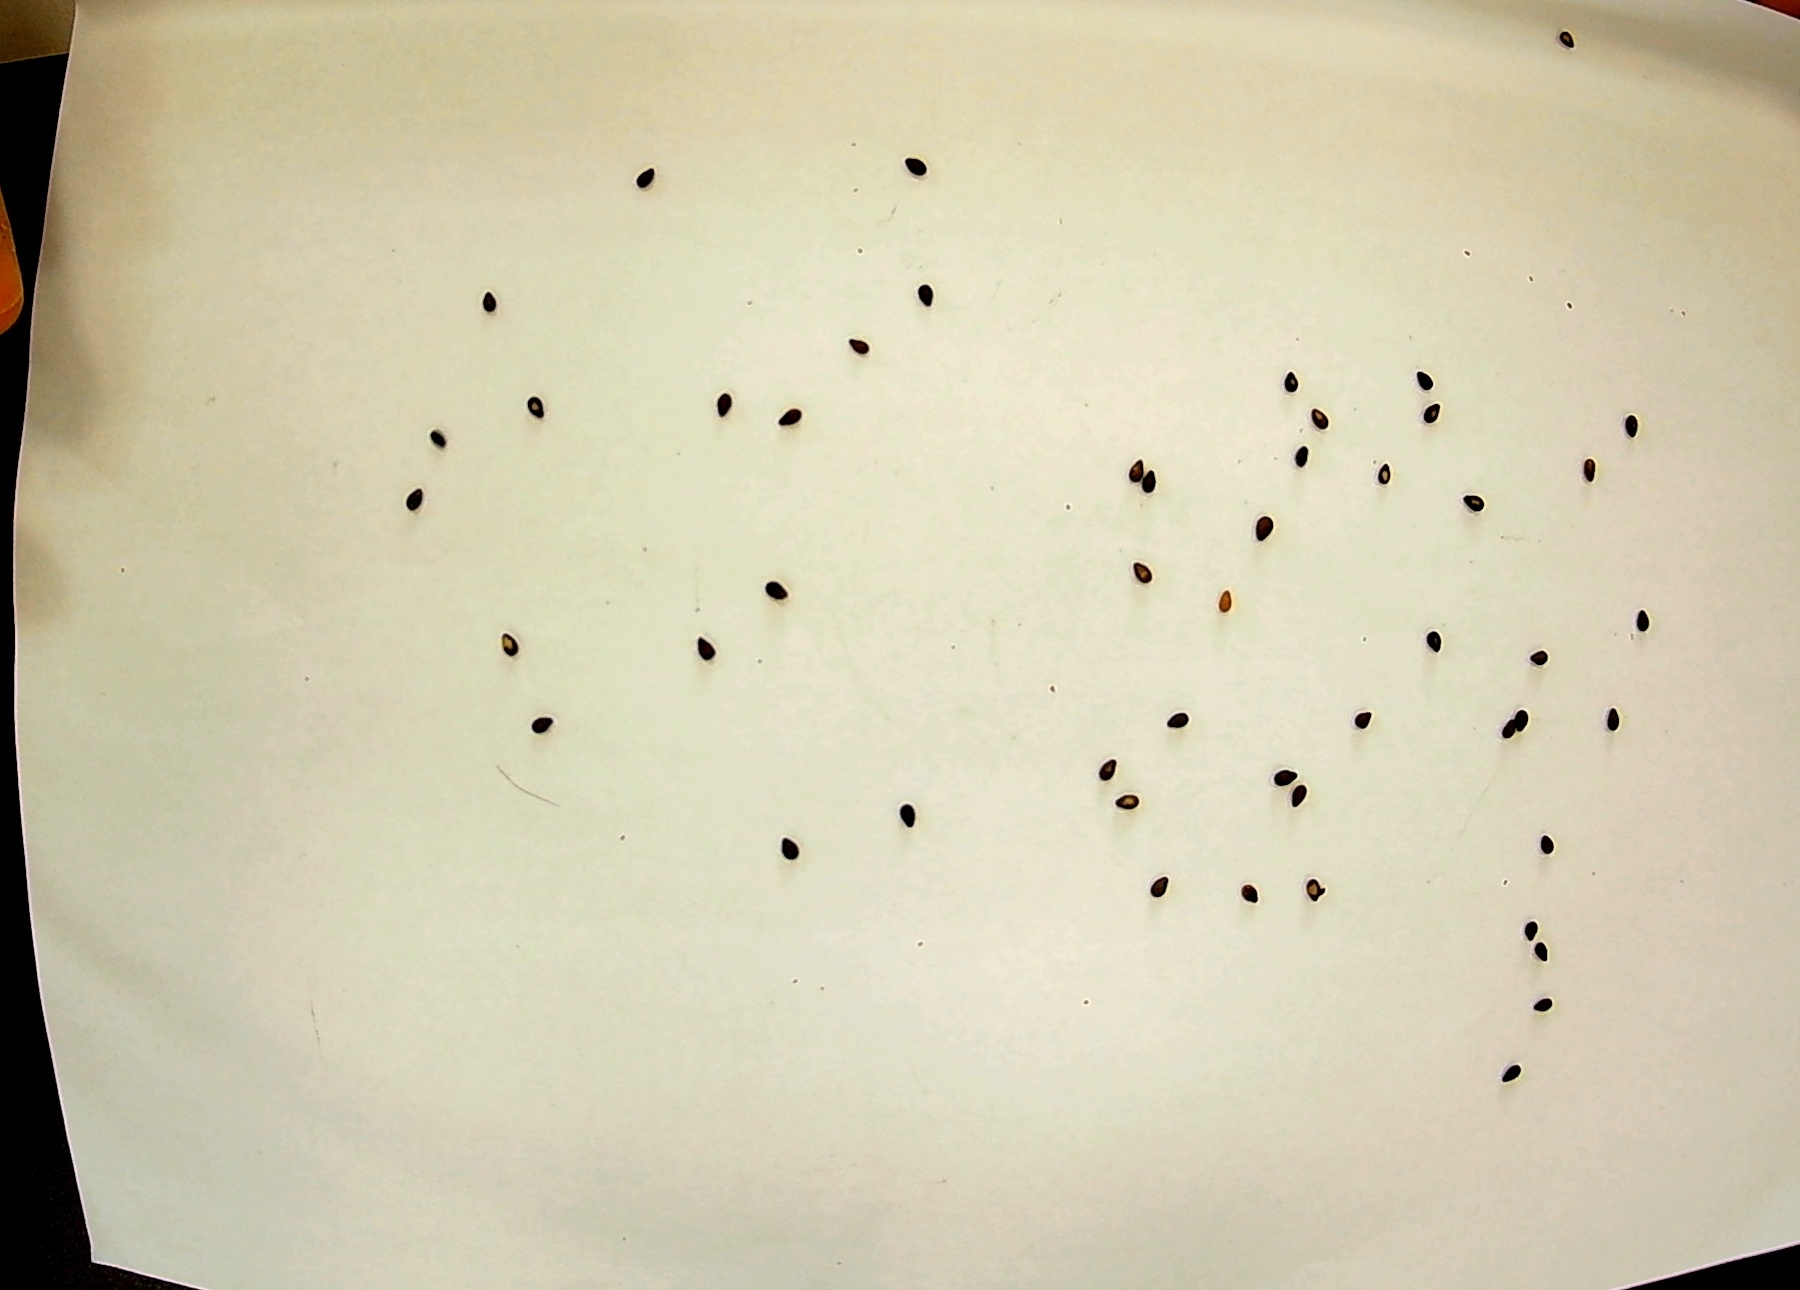sesami: (1494, 697, 1531, 752), (1259, 757, 1312, 793), (1100, 793, 1153, 826), (1453, 477, 1487, 528), (887, 800, 932, 839), (896, 145, 929, 195), (1522, 632, 1554, 681), (753, 572, 797, 607), (1566, 441, 1600, 484), (1243, 505, 1277, 550), (627, 162, 666, 200), (1418, 396, 1454, 436), (1633, 595, 1660, 645), (1285, 438, 1321, 476), (1524, 991, 1566, 1022), (1591, 699, 1630, 732), (707, 387, 738, 427), (399, 484, 435, 518), (766, 403, 804, 436), (1540, 27, 1578, 59), (904, 281, 947, 309), (1143, 873, 1182, 903), (1277, 360, 1307, 399), (1296, 403, 1338, 431), (487, 634, 534, 658), (426, 427, 462, 458), (516, 388, 546, 424), (1215, 584, 1247, 616), (1287, 787, 1319, 820), (1088, 747, 1122, 778), (1418, 623, 1447, 658), (474, 288, 511, 316), (1527, 824, 1559, 854), (1165, 701, 1194, 734), (1402, 366, 1443, 390), (1619, 412, 1649, 443), (693, 627, 721, 660), (1123, 553, 1151, 585), (1238, 875, 1266, 907), (1494, 1061, 1529, 1083), (1370, 452, 1395, 483), (1524, 945, 1554, 970), (1300, 878, 1330, 903), (1345, 708, 1372, 734), (527, 713, 561, 734), (1123, 450, 1143, 484), (777, 839, 802, 866), (846, 329, 867, 357), (1520, 906, 1538, 938), (1139, 473, 1157, 498)
